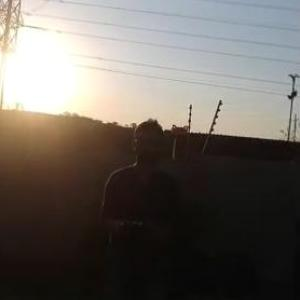follow: (96, 114, 189, 299)
